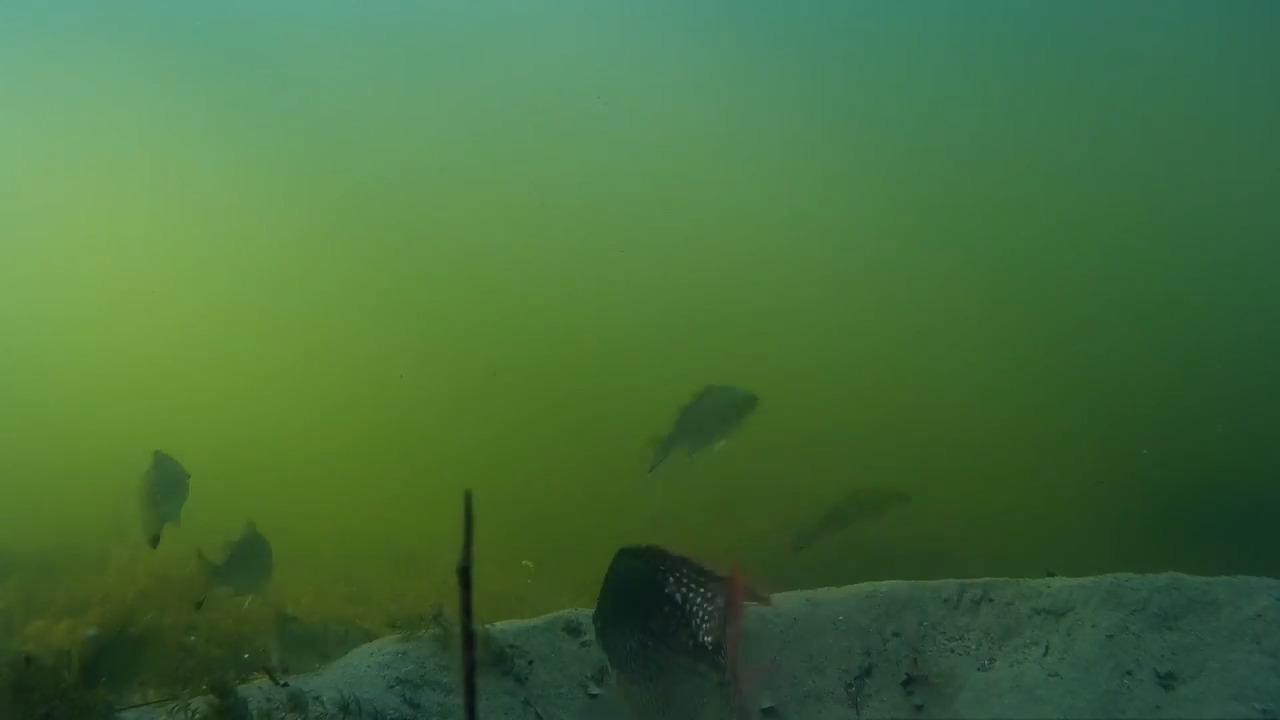Tilapia: (566, 542, 776, 713), (635, 377, 771, 489), (774, 478, 947, 566), (198, 516, 295, 624), (117, 434, 200, 556)
